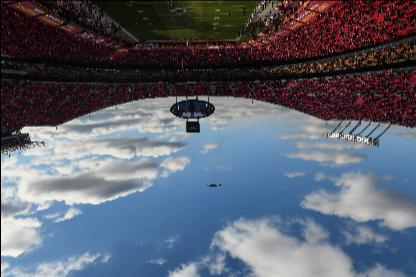B1: (205, 184, 221, 186)
